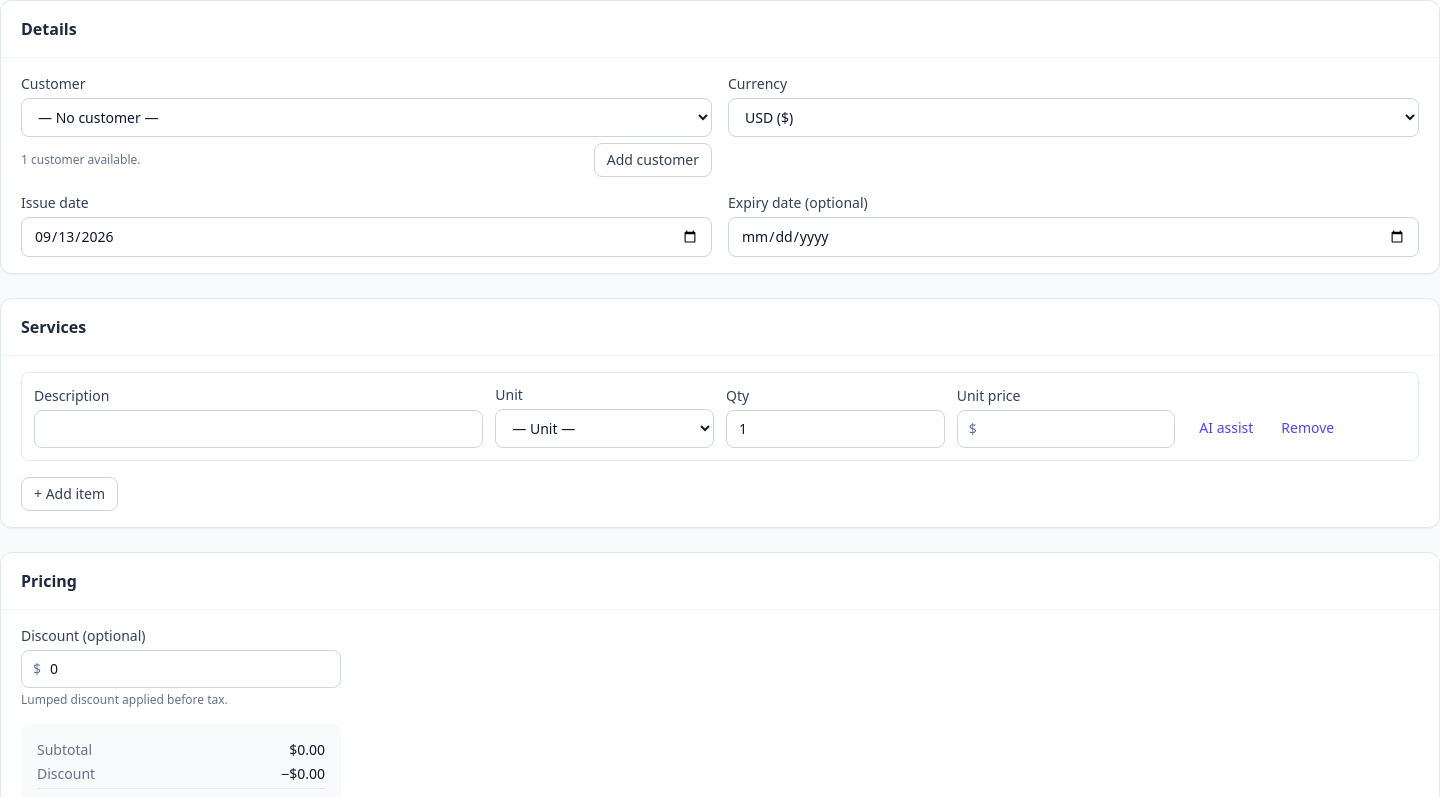
Test: QuoteForm › adds and removes item rows
The width and height of the screenshot is (1440, 797).
Click the button "+ Add item": (70, 494) [21,477,118,511]
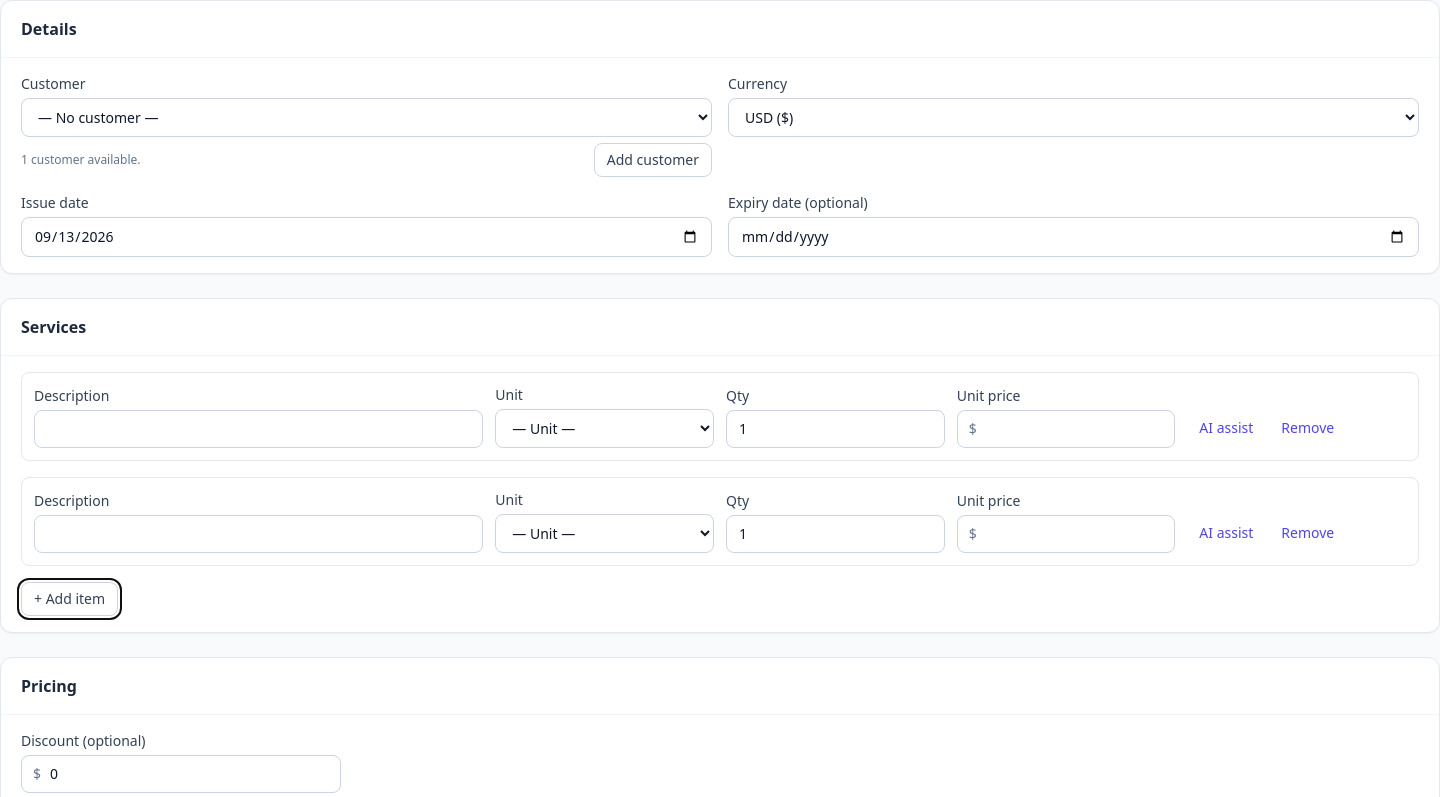
Check: the number of fields labelled "Description" is 2, box [34,410,483,448]; [34,515,483,553]
Click the button with aria-label "Remove item 2": (1308, 533) [1269,517,1346,549]
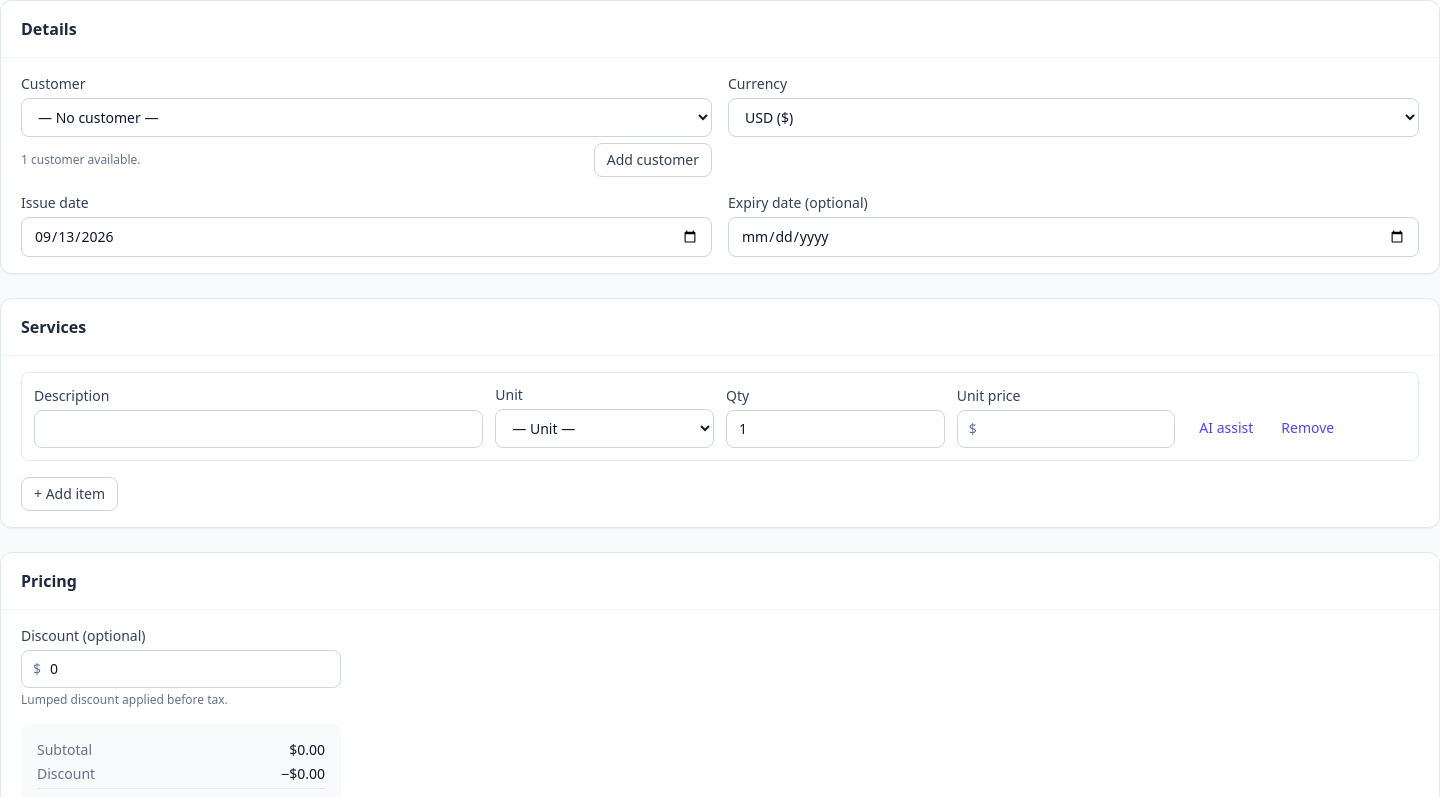
Check: the number of fields labelled "Description" is 1, box [34,410,483,448]
